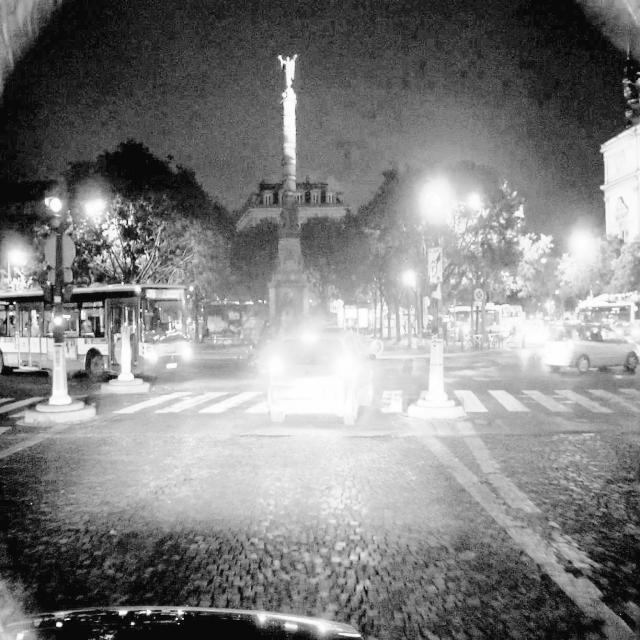Bus: (0, 286, 195, 388)
Car: (263, 318, 377, 426)
Light: (45, 179, 65, 232)
Sign: (45, 234, 75, 284)
